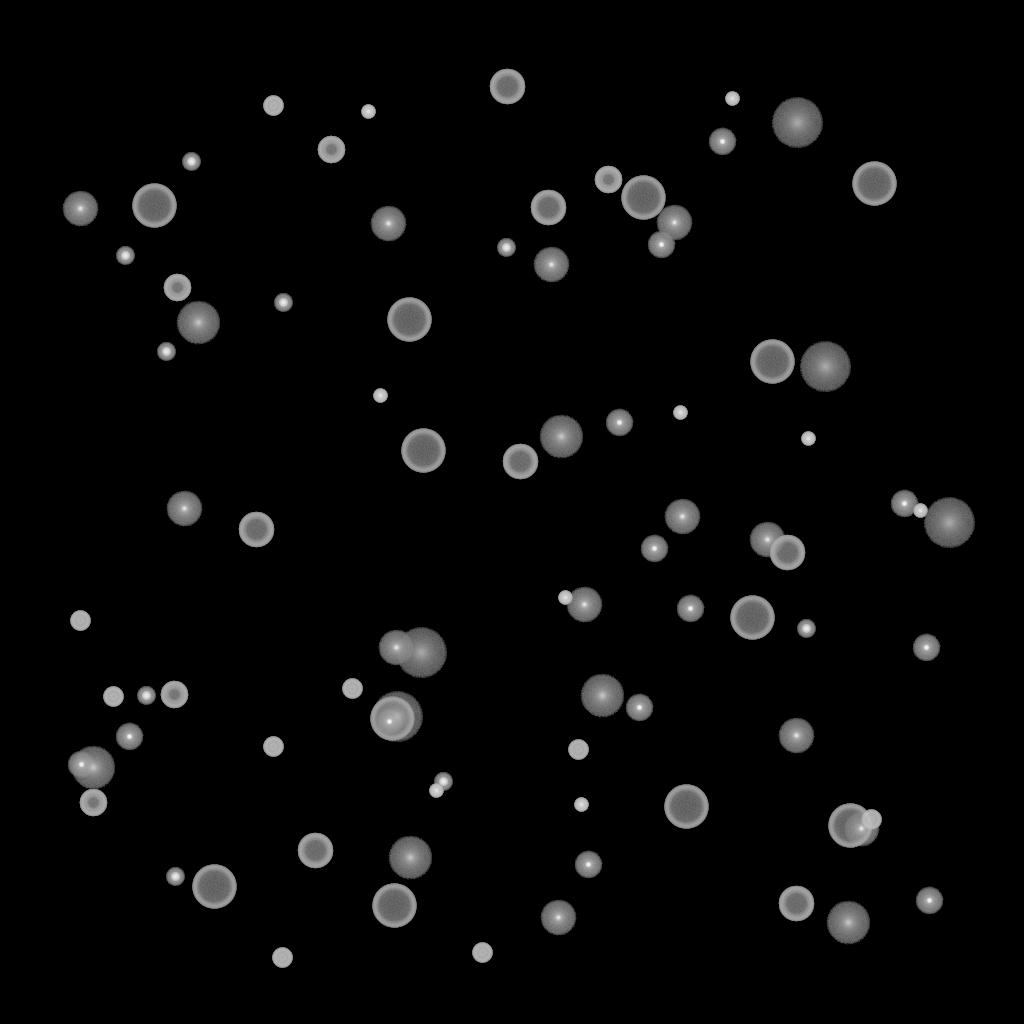depth:-10: (605, 409, 633, 437), (115, 723, 143, 751), (915, 887, 943, 915), (647, 231, 675, 259), (890, 490, 918, 518), (912, 634, 940, 662), (574, 851, 602, 879), (708, 128, 736, 156), (67, 751, 95, 779), (625, 694, 653, 722), (676, 595, 704, 623), (640, 535, 668, 563), (375, 708, 403, 736)
depth:-20: (182, 153, 200, 171), (497, 239, 515, 257), (434, 773, 452, 791), (274, 294, 292, 312), (797, 620, 815, 638), (116, 247, 134, 265), (166, 868, 184, 886), (137, 687, 155, 705), (157, 343, 175, 361)
depth:-30: (429, 784, 443, 798), (361, 105, 375, 119), (574, 798, 588, 812), (725, 92, 739, 106), (801, 432, 815, 446), (558, 591, 572, 605), (373, 389, 387, 403), (673, 406, 687, 420), (913, 504, 927, 518)
depth:-40: (472, 943, 492, 963), (342, 679, 362, 699), (272, 948, 292, 968), (263, 737, 283, 757), (103, 687, 123, 707), (263, 96, 283, 116), (70, 611, 90, 631), (568, 740, 588, 760), (861, 810, 881, 830)
depth:-50: (79, 789, 107, 817), (317, 136, 345, 164), (160, 681, 188, 709), (594, 166, 622, 194), (163, 274, 191, 302)
depth:-60: (297, 833, 333, 869), (530, 190, 566, 226), (502, 444, 538, 480), (769, 535, 805, 571), (238, 512, 274, 548), (489, 69, 525, 105), (778, 886, 814, 922)
depth:-70: (401, 429, 445, 473), (132, 184, 176, 228), (621, 176, 665, 220), (750, 340, 794, 384), (730, 596, 774, 640), (852, 162, 896, 206), (192, 865, 236, 909), (828, 804, 872, 848), (372, 884, 416, 928), (387, 298, 431, 342), (370, 697, 414, 741), (664, 785, 708, 829)
depth:0: (533, 247, 569, 283), (540, 900, 576, 936), (778, 718, 814, 754), (656, 205, 692, 241), (62, 191, 98, 227), (843, 811, 879, 847), (749, 522, 785, 558), (664, 499, 700, 535), (166, 491, 202, 527), (370, 206, 406, 242), (378, 630, 414, 666), (566, 587, 602, 623)
depth:10: (71, 746, 115, 790), (539, 415, 583, 459), (388, 836, 432, 880), (826, 901, 870, 945), (580, 674, 624, 718), (176, 301, 220, 345)
depth:20: (923, 498, 975, 548), (371, 692, 423, 742), (799, 342, 851, 392), (395, 628, 447, 678), (771, 98, 823, 148)
